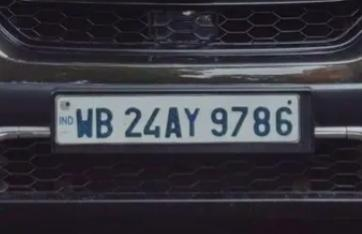2: (123, 104, 144, 139)
4: (140, 104, 164, 141)
6: (275, 99, 296, 139)
7: (229, 97, 250, 141)
8: (251, 103, 272, 139)
9: (210, 103, 231, 141)
A: (164, 101, 184, 141)
B: (95, 99, 117, 142)
W: (72, 101, 96, 141)
Y: (182, 104, 204, 140)
